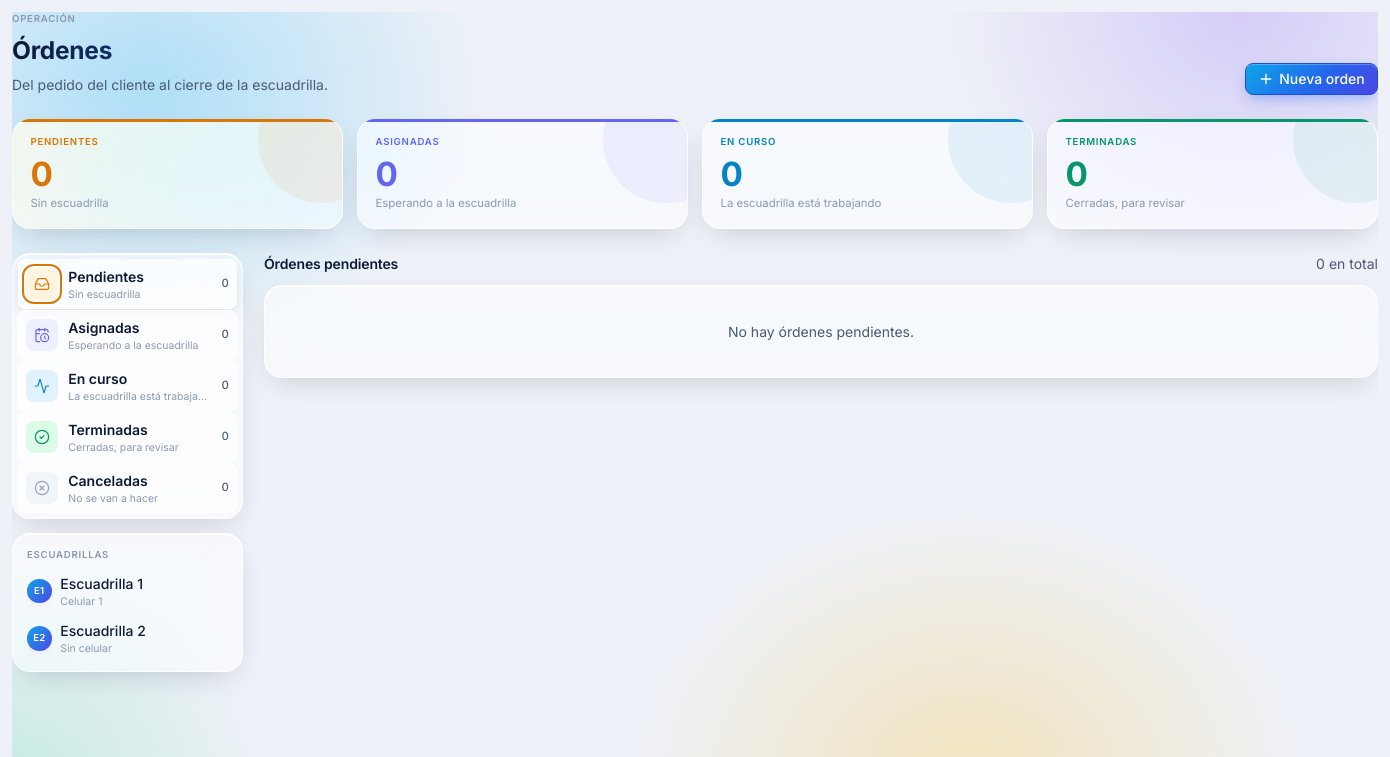
OrdersPage › crea el cliente desde la orden y queda elegido
Click the button "Nueva orden" at (1311, 79), box [1245,63,1378,95]
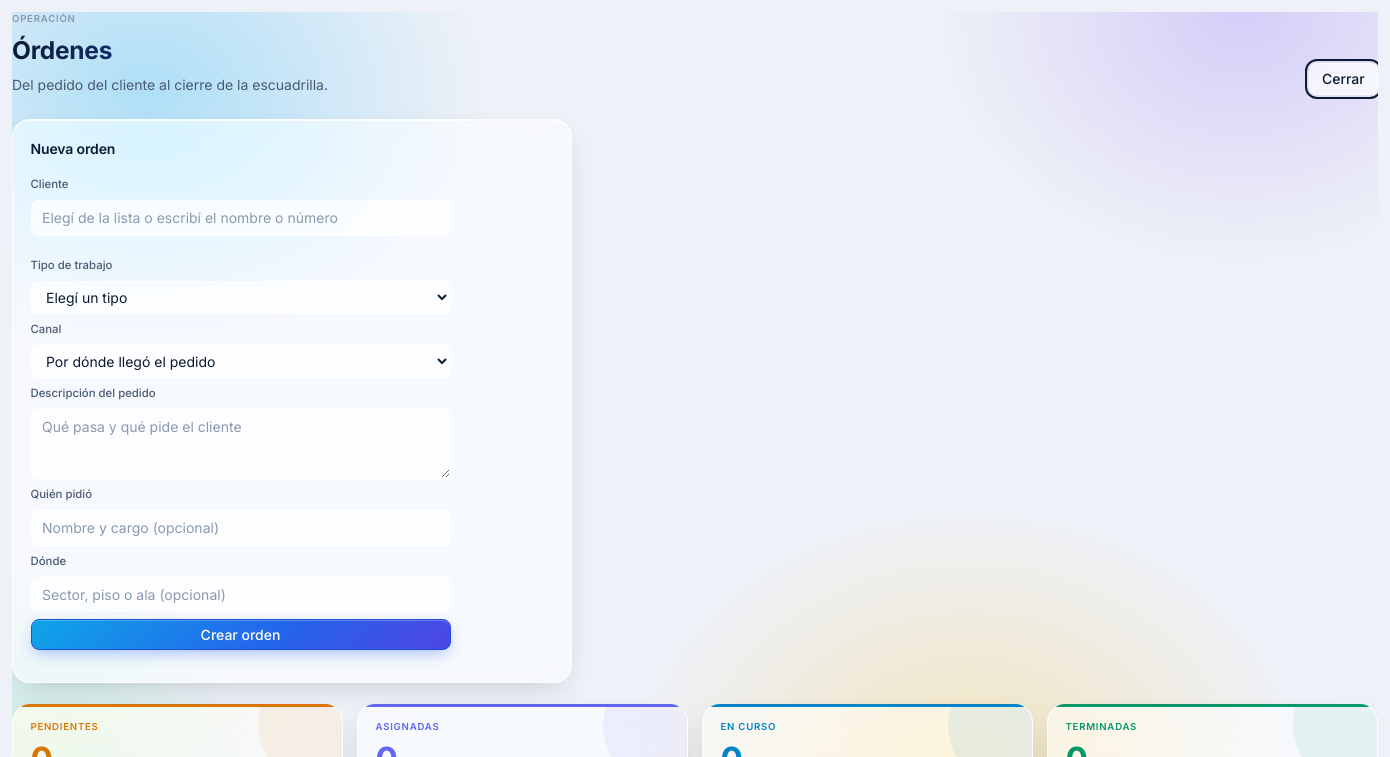
Type "Bar Nuevo" into the dropdown labelled "Cliente" at (240, 218), box [30,200,450,236]
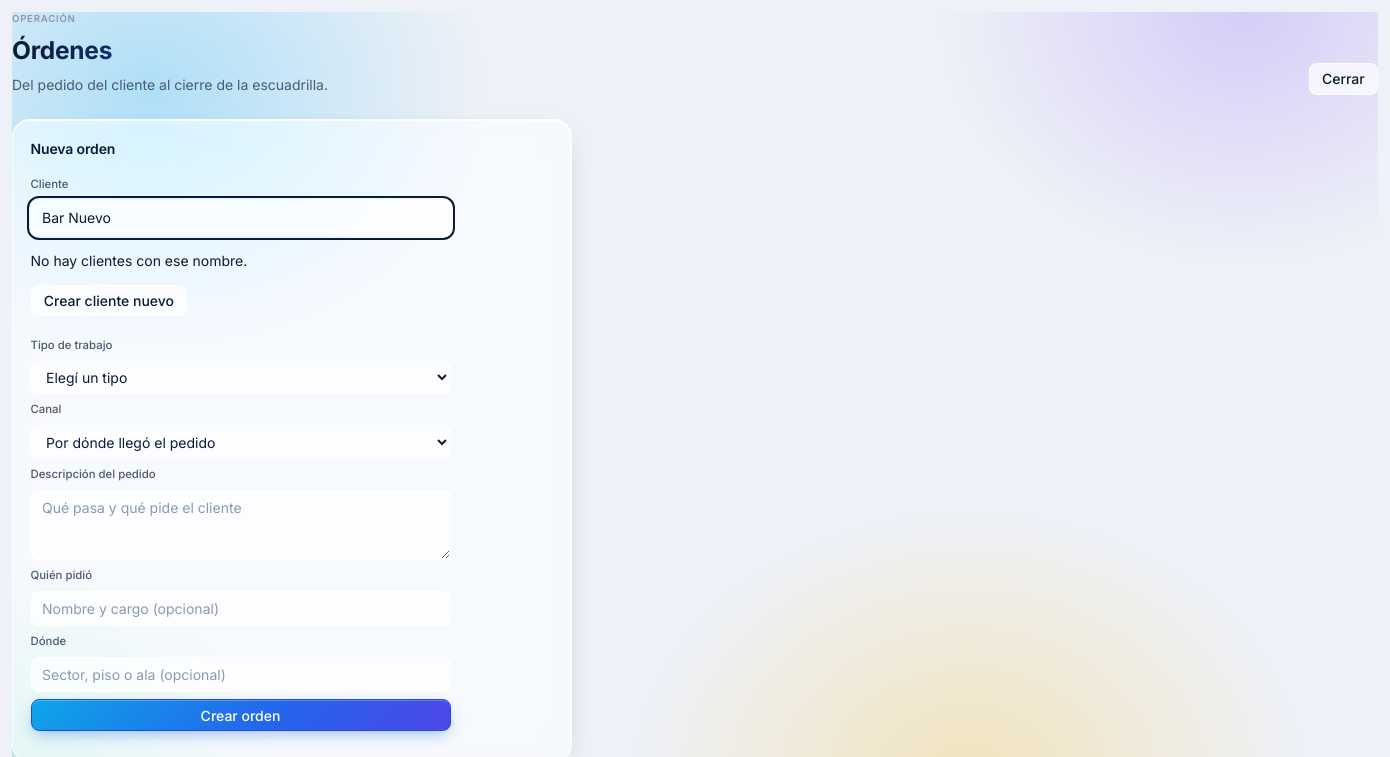
Check: the text "No hay clientes con ese nombre." is shown, box [30,250,247,270]
Click the button "Crear cliente nuevo" at (109, 300), box [30,284,187,316]
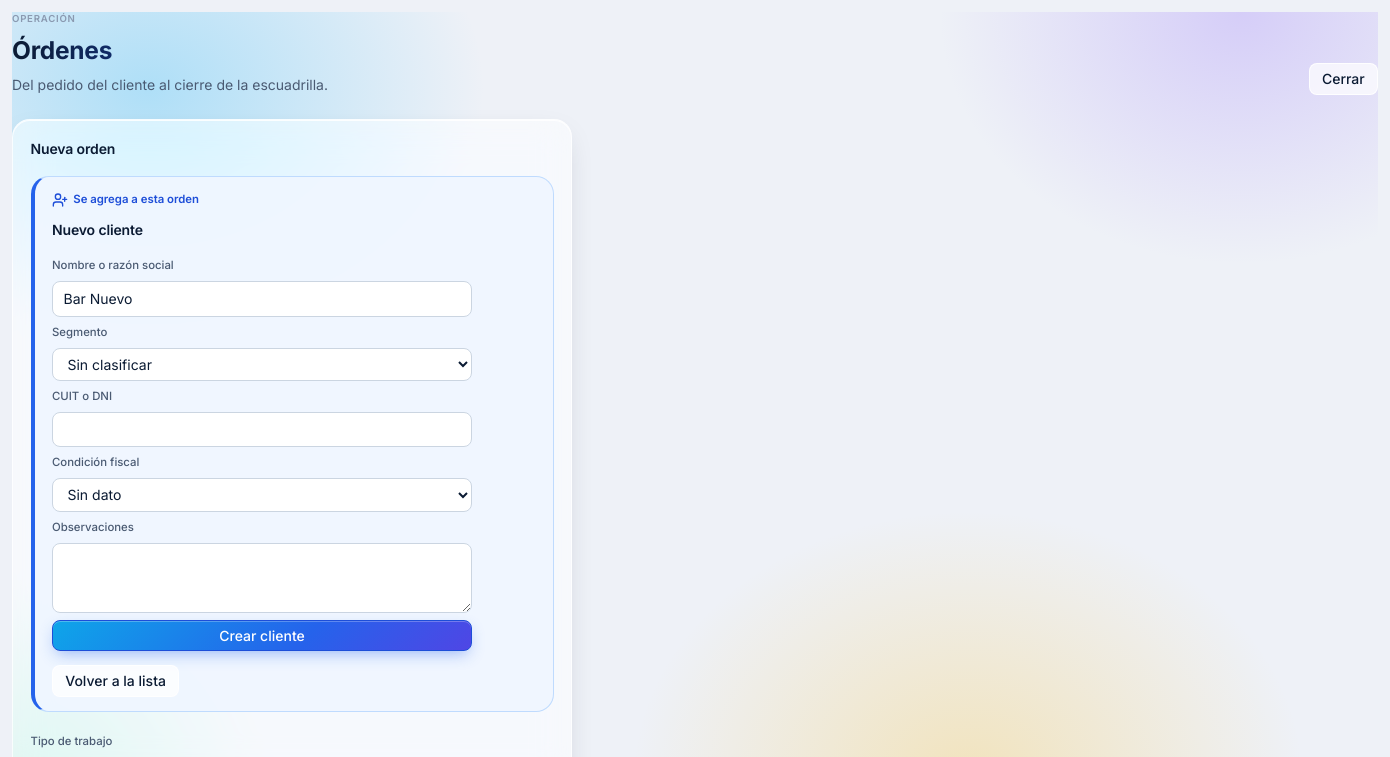
Check: the field labelled "Nombre o razón social" holds "Bar Nuevo", box [52,281,472,317]
Click the button "Crear cliente" at (262, 635), box [52,620,472,651]
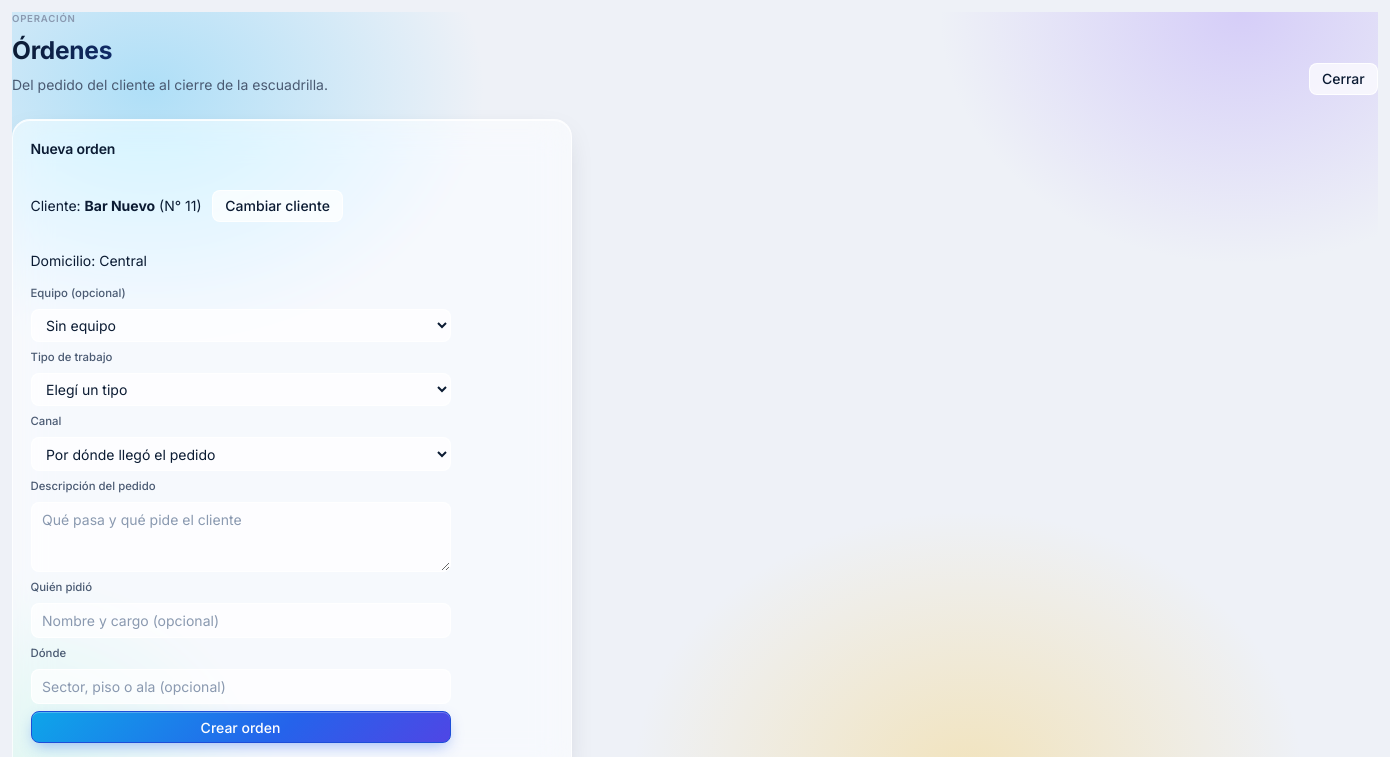
Check: the text "Bar Nuevo" is shown, box [84,197,155,214]
Check: the button "Cambiar cliente" is shown, box [212,190,343,222]
